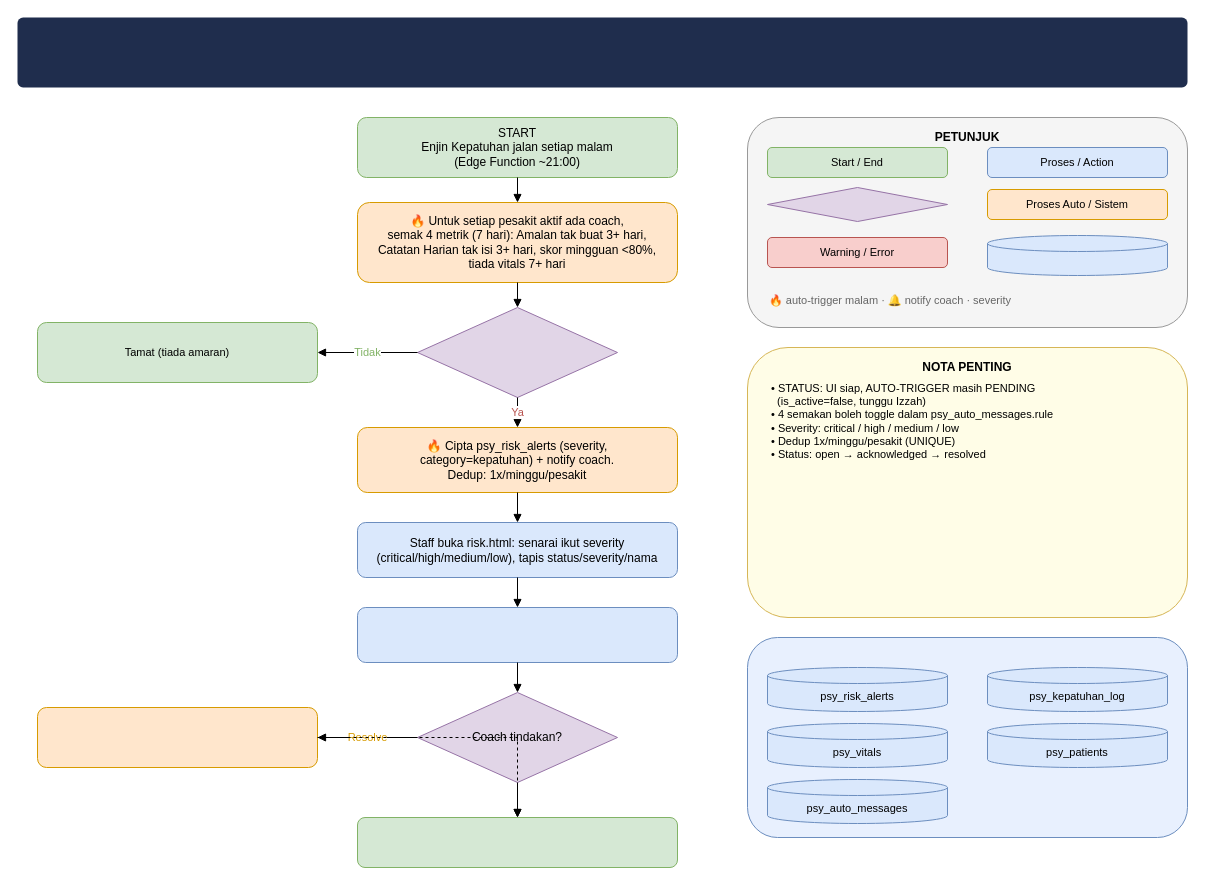
Image size: 1205x885. Some labels were removed from this diagram. Here are the shapes that lost their labels. From the top down, the box of each, then its label:
(17, 17, 1187, 87): FLOW: AMARAN RISIKO Auto-kesan pesakit berisiko → coach ambil tindakan
(766, 186, 948, 222): Keputusan / Decision
(986, 234, 1168, 276): Database
(416, 306, 618, 398): Ada check gagal?
(356, 606, 678, 662): Kad ringkasan: High+Critical terbuka, Critical, Baru hari ini, Selesai 7-hari
(36, 706, 318, 768): 🔥 status=resolved + resolved_at + nota
(746, 636, 1188, 838): JADUAL / DATA TERLIBAT
(356, 816, 678, 868): Amaran diselesaikan dan direkod
